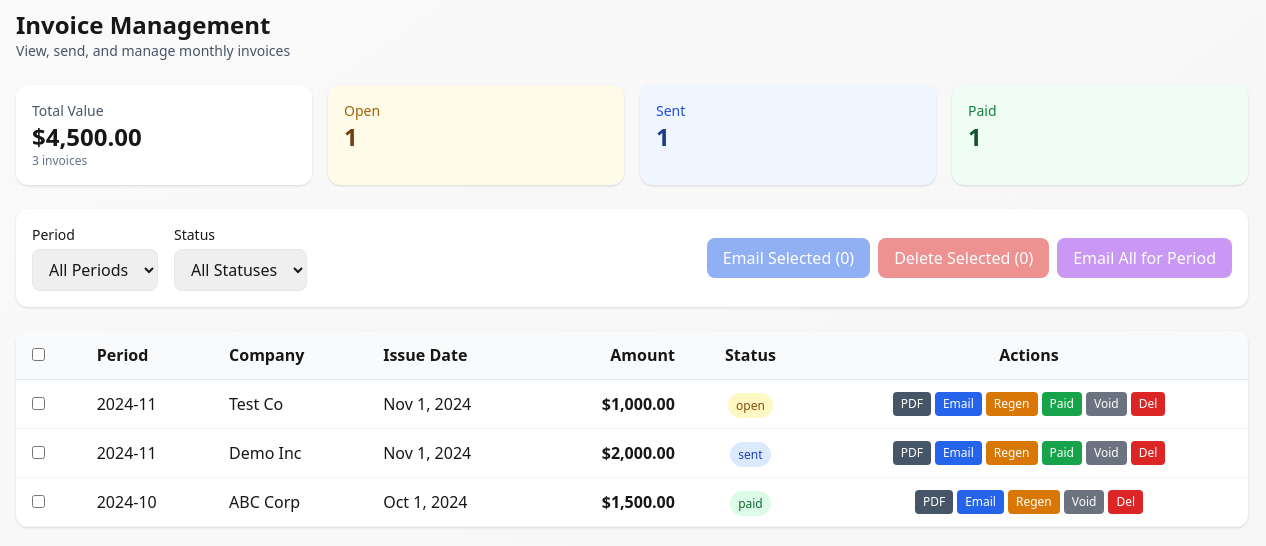
Scenario: InvoiceManager Component › Invoice Selection › should select all invoices with select all checkbox
The image size is (1266, 546).
Click the checkbox in the row of "Company": (38, 354) left=32, top=348, right=45, bottom=361
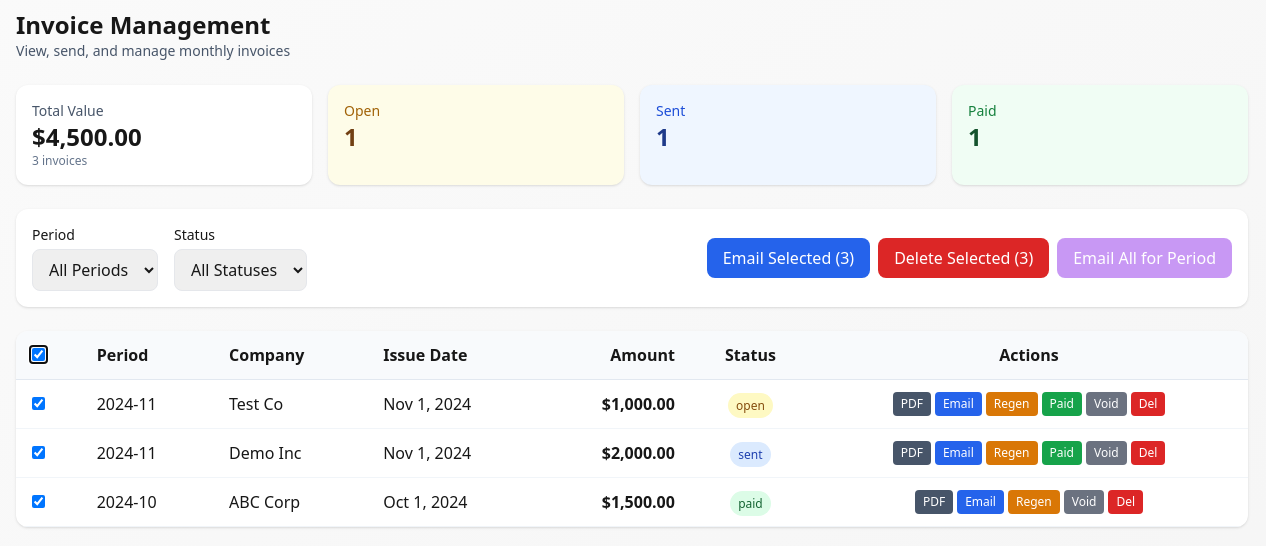
expect the checkbox in the row of "Company" is checked: met, box left=32, top=348, right=45, bottom=361
expect the checkbox in the row of "Test Co" is checked: met, box left=32, top=397, right=45, bottom=410
expect the checkbox in the row of "Demo Inc" is checked: met, box left=32, top=446, right=45, bottom=459
